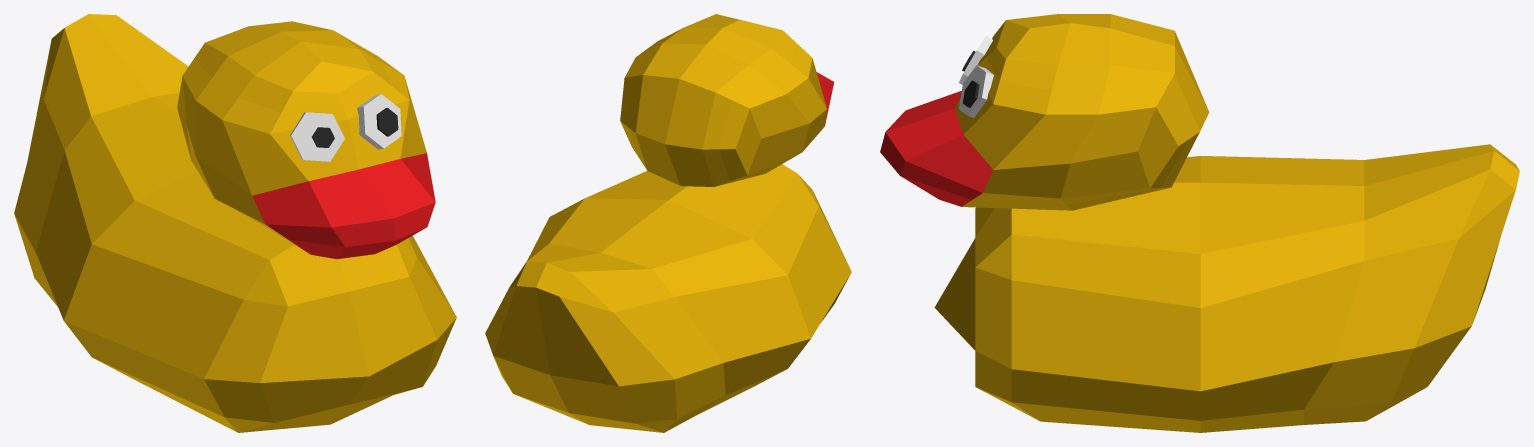
The model's file is Rubberduckie.fbx.
3 renders of one model, left to right at view 1: azimuth 30°, elevation 25°; view 2: azimuth 150°, elevation 25°; view 3: azimuth 270°, elevation 25°, orthographic. The views are drawn at different scales.
Visible parts, largest first — view 1: Cube.007; view 2: Cube.007; view 3: Cube.007.
Boxes of the visible parts, x1,y1,x2,y2 form: Cube.007: (14,14,456,432); Cube.007: (485,14,851,432); Cube.007: (880,14,1519,432).
Bounding box in the file's own units: 52.67 × 52.93 × 85.08.
